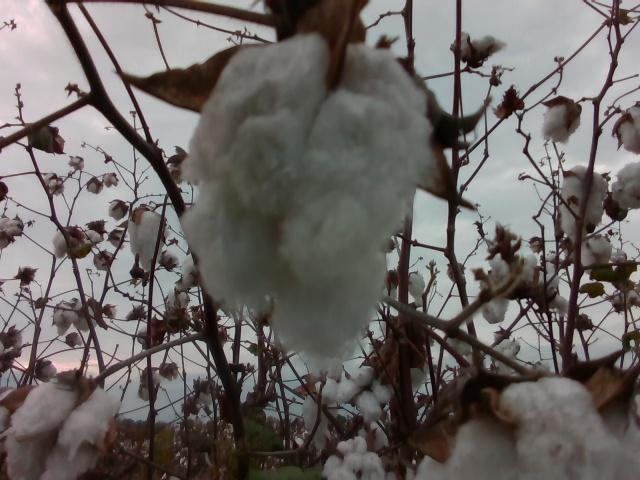cotton_ready: (181, 32, 433, 373), (416, 376, 640, 480), (7, 374, 120, 480), (560, 166, 607, 242), (339, 365, 393, 422), (304, 378, 341, 452), (323, 437, 385, 480), (128, 209, 168, 271), (489, 248, 539, 296), (541, 102, 579, 144), (479, 272, 509, 324), (451, 32, 506, 59), (536, 273, 570, 316), (612, 163, 640, 210), (355, 422, 391, 457), (582, 236, 613, 276), (618, 104, 640, 156), (176, 253, 203, 292), (55, 299, 83, 336), (493, 339, 520, 376), (53, 226, 82, 258), (0, 216, 24, 249), (407, 270, 428, 307), (78, 300, 99, 334), (383, 467, 419, 480)
